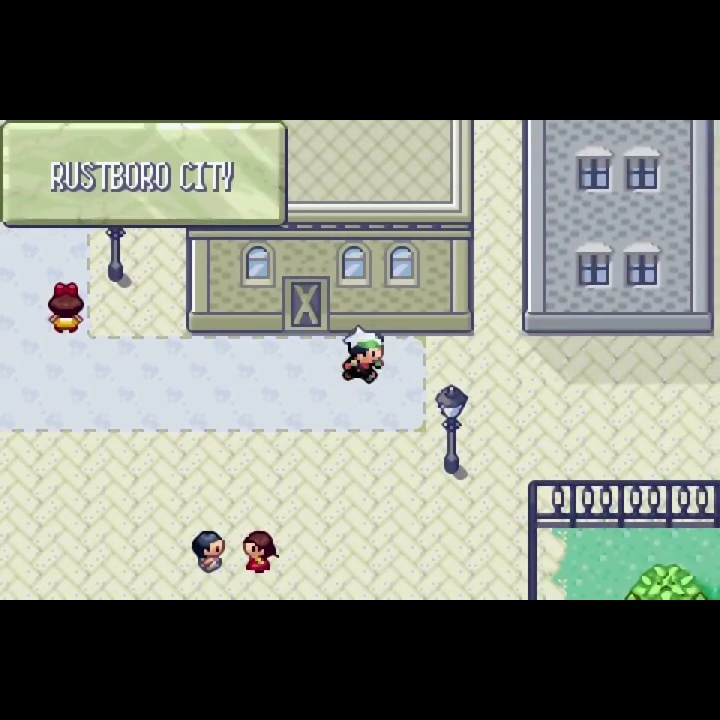house: (183, 120, 476, 336), (520, 119, 714, 336)
npc: (338, 323, 387, 388), (46, 280, 89, 336), (239, 527, 283, 576), (188, 526, 227, 574)
wall: (621, 562, 714, 600)
